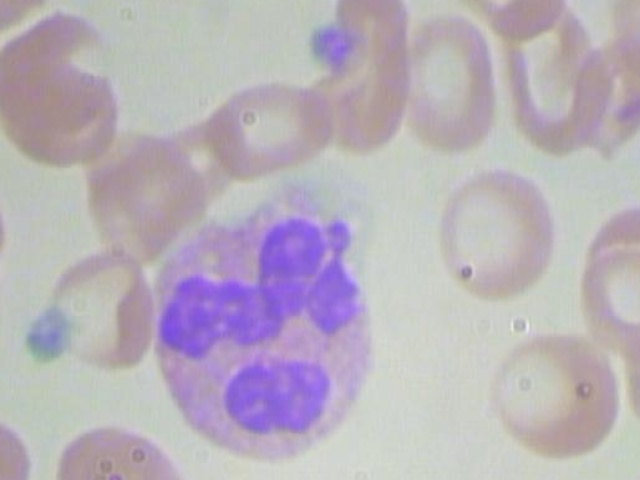RBC: (427, 166, 557, 306), (493, 329, 617, 460), (208, 68, 335, 176), (402, 13, 501, 150), (53, 413, 191, 480), (577, 221, 640, 361), (622, 311, 640, 441)
WBC: (138, 177, 383, 469)
